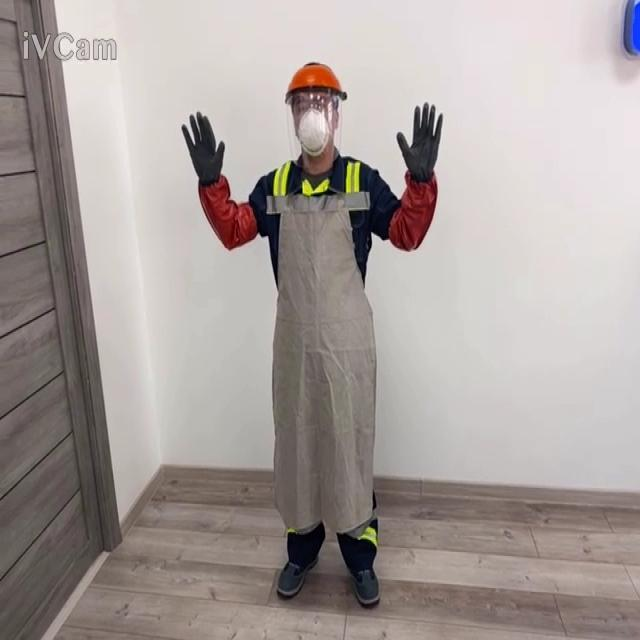Gloves: (396, 101, 443, 183), (181, 110, 225, 186)
Mask: (295, 106, 331, 158)
Protective apron: (266, 161, 377, 536)
Safety Shoes: (276, 555, 318, 596), (349, 566, 379, 606)
Sleeve: (197, 172, 258, 249), (387, 168, 437, 251)
